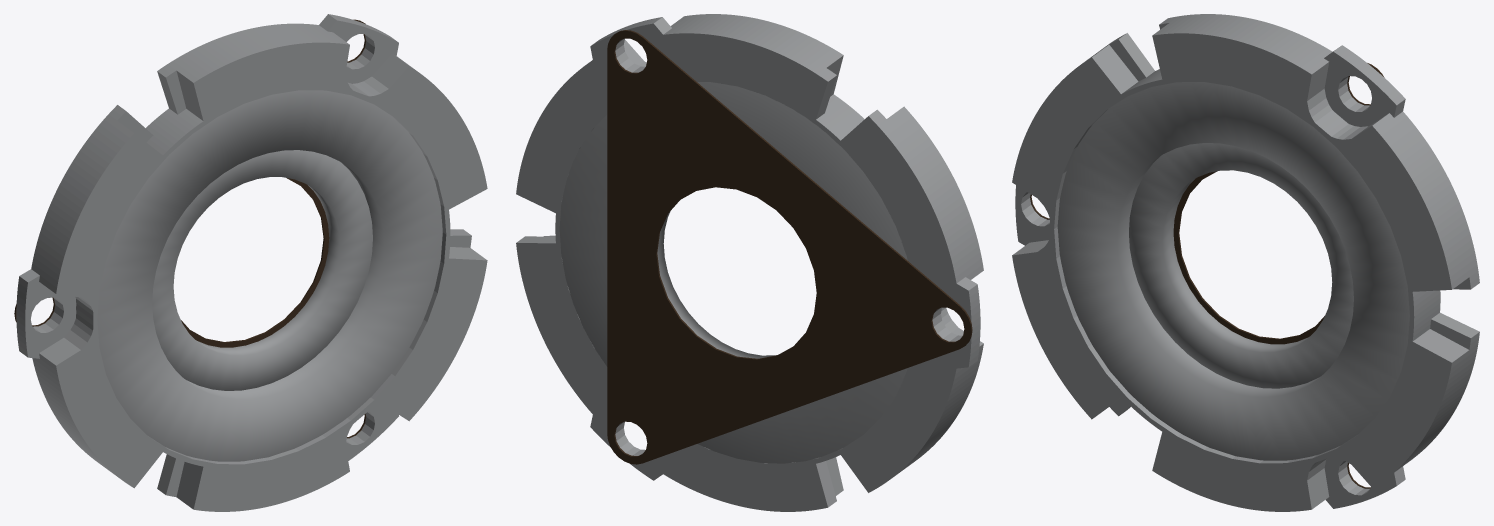
The model's file is cam-flange-cover-left.glb.
The picture shows the model from 3 angles, left to right: view 1: azimuth 30°, elevation 25°; view 2: azimuth 150°, elevation 25°; view 3: azimuth 330°, elevation 25°; orthographic projection.
Parts seen in each view (by area): view 1: cam-flange-cover-left:castAlu, cam-flange-cover-left:gasket; view 2: cam-flange-cover-left:castAlu, cam-flange-cover-left:gasket; view 3: cam-flange-cover-left:castAlu, cam-flange-cover-left:gasket.
Boxes of the visible parts, bbox=[...] form: cam-flange-cover-left:castAlu: bbox=[16, 14, 487, 511]; cam-flange-cover-left:gasket: bbox=[14, 19, 366, 438]; cam-flange-cover-left:castAlu: bbox=[516, 14, 983, 511]; cam-flange-cover-left:gasket: bbox=[607, 30, 972, 464]; cam-flange-cover-left:castAlu: bbox=[1012, 14, 1479, 511]; cam-flange-cover-left:gasket: bbox=[1030, 63, 1384, 488].
Size of the model in its own units: 96.74 by 94.4 by 10.1.
